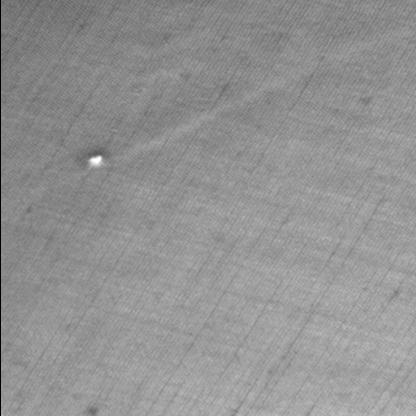hole: (84, 154, 106, 170)
